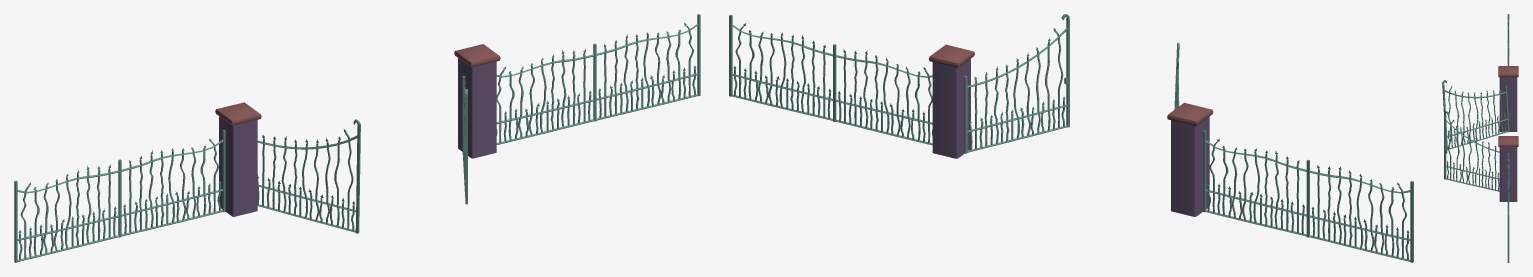
Rendered from porte_gate.fbx.
3 views of the same model, side by side, from view 1: azimuth 30°, elevation 25°; view 2: azimuth 150°, elevation 25°; view 3: azimuth 270°, elevation 25° (orthographic). The views are drawn at different scales.
Parts seen in each view (by area): view 1: Cloture, Cloture.003, Porte, Porte.061, Porte.063, Porte.060, Porte.062, Porte.001; view 2: Cloture, Cloture.003, Porte.001, Porte.063, Porte.061, Porte.060, Porte.062; view 3: Porte, Porte.001, Porte.063, Porte.061, Cloture.003, Porte.060, Porte.062, Cloture.
Boxes of the visible parts, <box> form: Cloture: <box>14,130,225,262</box>; Cloture.003: <box>496,14,700,144</box>; Porte: <box>257,119,360,233</box>; Porte.061: <box>219,116,257,216</box>; Porte.063: <box>458,58,496,158</box>; Porte.060: <box>215,102,261,125</box>; Porte.062: <box>454,44,500,67</box>; Porte.001: <box>462,76,467,204</box>; Cloture: <box>1203,130,1413,262</box>; Cloture.003: <box>729,14,932,145</box>; Porte.001: <box>964,14,1069,153</box>; Porte.063: <box>932,59,970,158</box>; Porte.061: <box>1171,116,1209,216</box>; Porte.060: <box>1167,102,1213,125</box>; Porte.062: <box>929,44,974,67</box>; Porte: <box>1442,80,1509,150</box>; Porte.001: <box>1444,111,1499,191</box>; Porte.063: <box>1499,147,1517,201</box>; Porte.061: <box>1499,77,1517,131</box>; Cloture.003: <box>1507,153,1509,262</box>; Porte.060: <box>1498,66,1518,77</box>; Porte.062: <box>1498,136,1518,147</box>; Cloture: <box>1507,14,1509,65</box>.
Bounding box in the file's own units: 1304 × 213 × 210.
